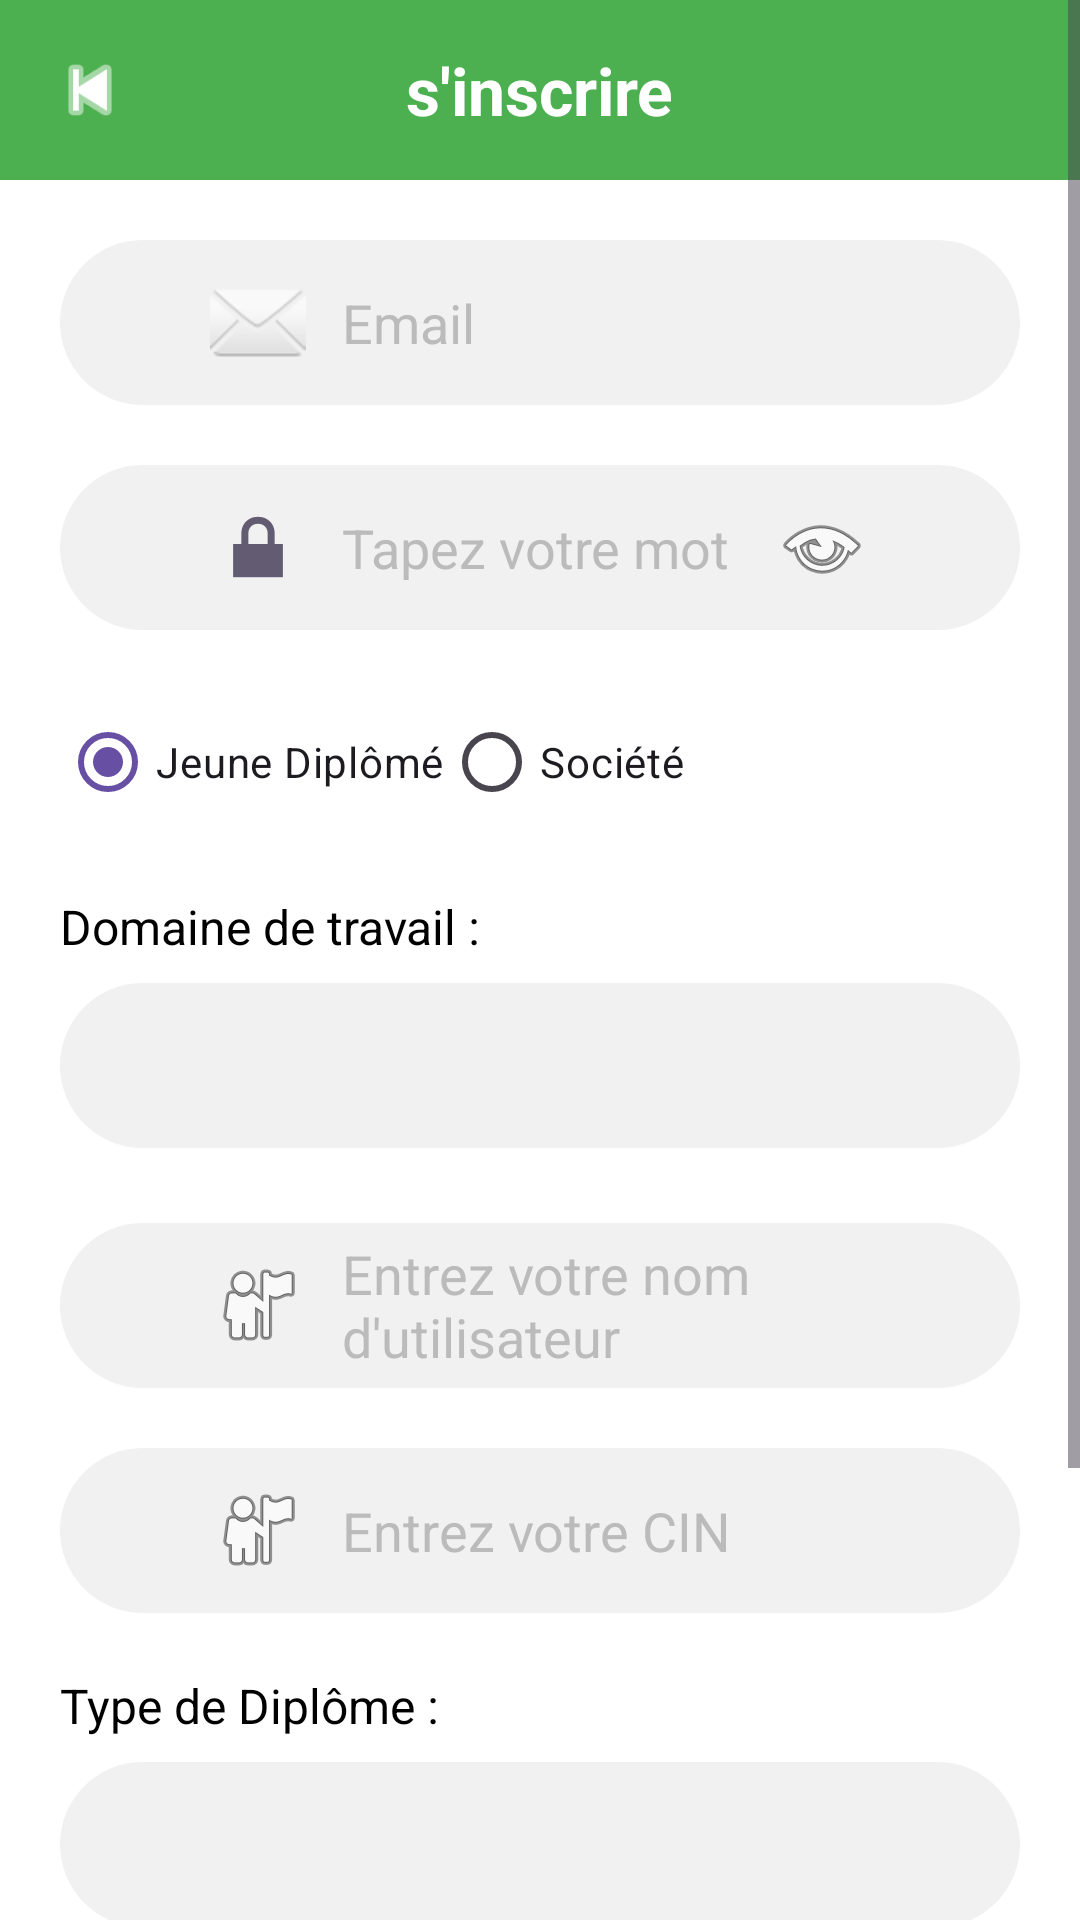

Icons on this 1080×1920 Android screen, each with the point to tap as point (x, y):
Back button: point (90, 90)
